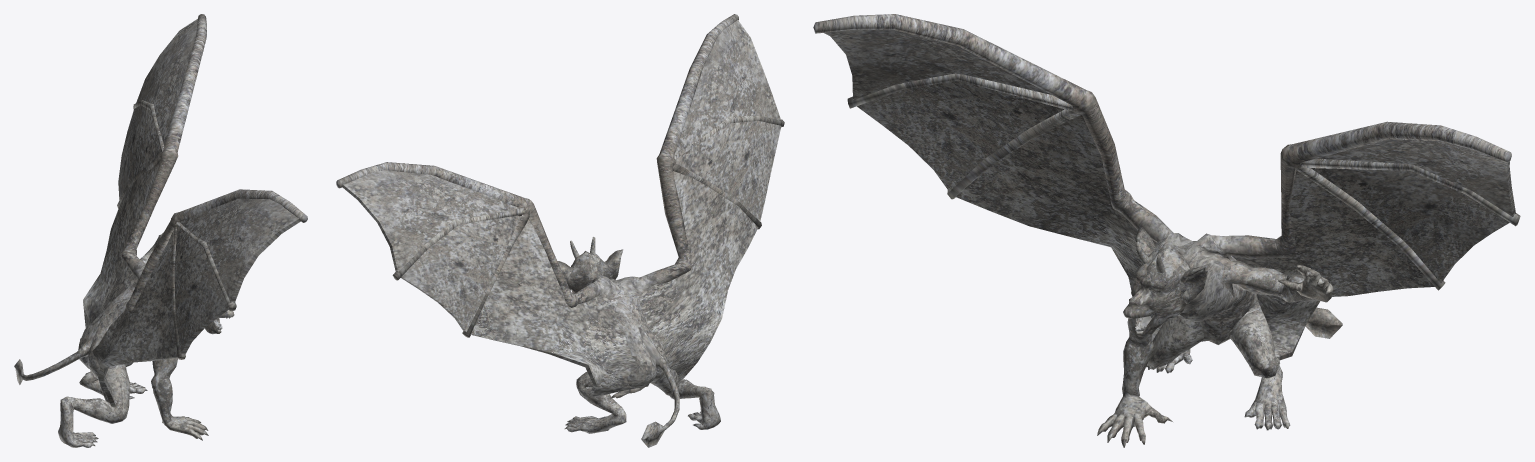
Rendered from Gargoyle_Statue_01.FBX.
3 renders of one model, left to right at view 1: azimuth 30°, elevation 25°; view 2: azimuth 150°, elevation 25°; view 3: azimuth 270°, elevation 25°, orthographic. The views are drawn at different scales.
Parts seen in each view (by area): view 1: Gargoyle_Statue_01; view 2: Gargoyle_Statue_01; view 3: Gargoyle_Statue_01.
Part boxes in pixels (bbox=[...]): Gargoyle_Statue_01: bbox=[14, 14, 307, 447]; Gargoyle_Statue_01: bbox=[336, 14, 784, 447]; Gargoyle_Statue_01: bbox=[813, 14, 1520, 447].
Bounding box in the file's own units: 122 × 134 × 205.
